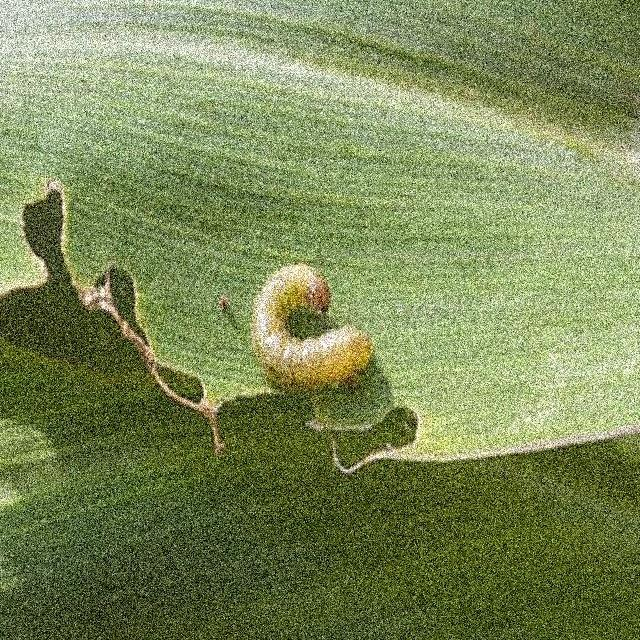worm: (249, 262, 375, 394)
